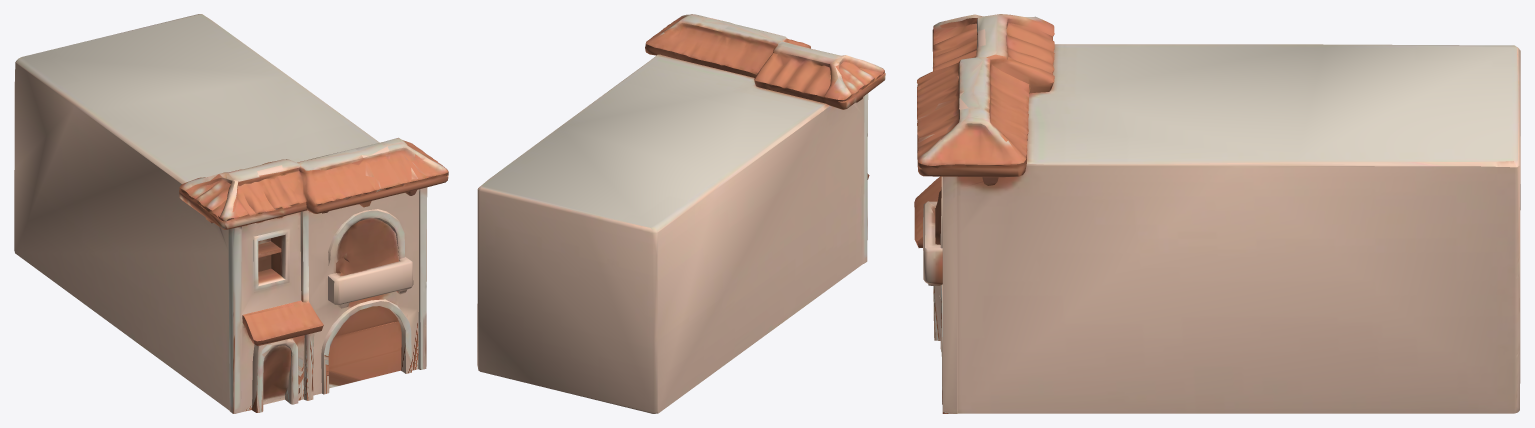
File: marina-mediterranean.glb
The picture shows the model from 3 angles, left to right: view 1: azimuth 30°, elevation 25°; view 2: azimuth 150°, elevation 25°; view 3: azimuth 270°, elevation 25°; orthographic projection. The views are drawn at different scales.
Parts seen in each view (by area): view 1: marina-mediterranean; view 2: marina-mediterranean; view 3: marina-mediterranean.
Part boxes in pixels (bbox=[...]): marina-mediterranean: bbox=[14, 14, 448, 413]; marina-mediterranean: bbox=[477, 14, 885, 413]; marina-mediterranean: bbox=[914, 14, 1520, 413].
Bounding box in the file's own units: 4.4 × 4.2 × 8.
Materials: 1 (1 with a texture image).
